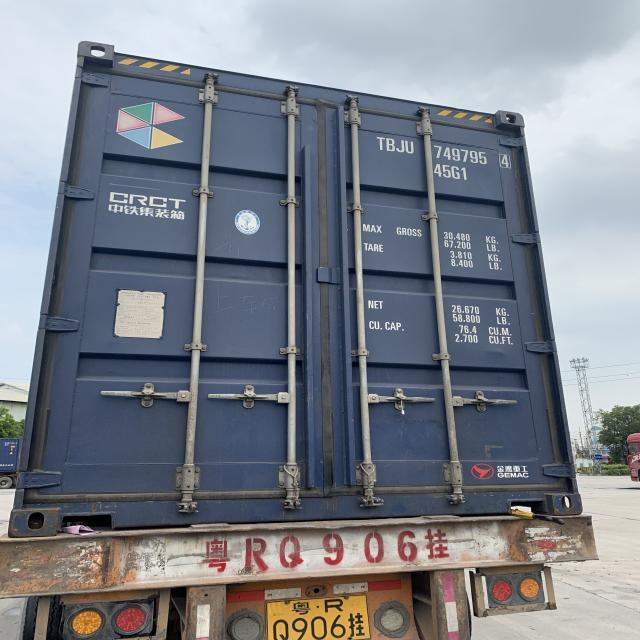ISO: (436, 164, 469, 182)
container_number: (378, 137, 507, 165)
